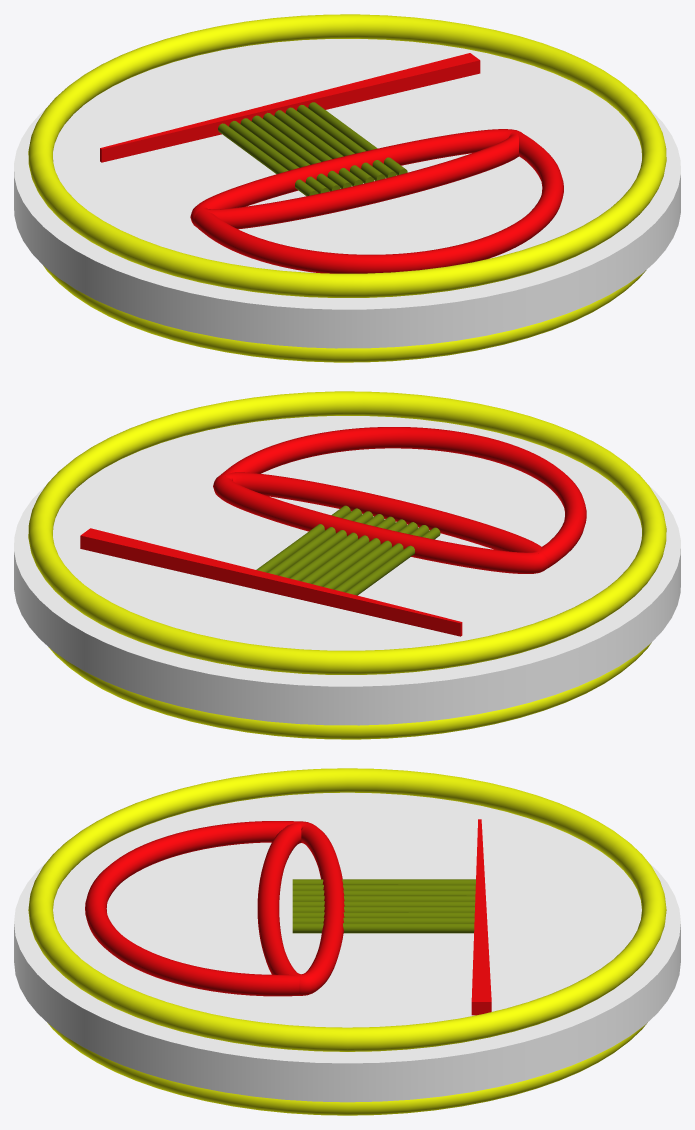
3 views of the same model, one above another, from view 1: azimuth 30°, elevation 25°; view 2: azimuth 150°, elevation 25°; view 3: azimuth 270°, elevation 25° (orthographic).
Visible parts, largest first — view 1: Circle010, Shape009, Ellipse002, Arc002, Shape013, Box016, Line008, Line010, Line014, Line011, Line012, Line013 (+3 smaller); view 2: Circle010, Shape009, Ellipse002, Arc002, Box016, Shape013, Line008, Line012, Line009, Line011, Line010, Line013 (+3 smaller); view 3: Circle010, Shape009, Arc002, Ellipse002, Shape013, Box016, Line016, Line011, Line009, Line013, Line010, Line008 (+3 smaller).
Part boxes in pixels (x1=…): Circle010: x1=14, y1=39, x2=680, y2=348; Shape009: x1=28, y1=14, x2=666, y2=297; Ellipse002: x1=190, y1=129, x2=522, y2=229; Arc002: x1=194, y1=131, x2=563, y2=273; Shape013: x1=43, y1=265, x2=646, y2=362; Box016: x1=100, y1=53, x2=480, y2=162; Line008: x1=218, y1=123, x2=317, y2=196; Line010: x1=240, y1=118, x2=340, y2=191; Line014: x1=285, y1=107, x2=385, y2=180; Line011: x1=251, y1=115, x2=351, y2=188; Line012: x1=263, y1=112, x2=362, y2=186; Line013: x1=274, y1=110, x2=373, y2=183; Circle010: x1=14, y1=416, x2=680, y2=725; Shape009: x1=28, y1=391, x2=666, y2=674; Ellipse002: x1=213, y1=472, x2=548, y2=573; Arc002: x1=221, y1=427, x2=586, y2=568; Box016: x1=80, y1=528, x2=462, y2=636; Shape013: x1=48, y1=642, x2=651, y2=739; Line008: x1=345, y1=527, x2=440, y2=595; Line012: x1=301, y1=516, x2=395, y2=583; Line009: x1=334, y1=525, x2=429, y2=592; Line011: x1=312, y1=519, x2=406, y2=586; Line010: x1=323, y1=522, x2=417, y2=589; Line013: x1=289, y1=514, x2=384, y2=580; Circle010: x1=14, y1=792, x2=680, y2=1102; Shape009: x1=28, y1=768, x2=666, y2=1051; Arc002: x1=85, y1=821, x2=303, y2=996; Ellipse002: x1=257, y1=821, x2=344, y2=995; Shape013: x1=47, y1=1022, x2=647, y2=1115; Box016: x1=471, y1=819, x2=491, y2=1015; Line016: x1=292, y1=923, x2=474, y2=933; Line011: x1=292, y1=895, x2=475, y2=901; Line009: x1=292, y1=884, x2=475, y2=890; Line013: x1=292, y1=906, x2=474, y2=912; Line010: x1=292, y1=890, x2=475, y2=895; Line008: x1=292, y1=879, x2=475, y2=884.
Size of the model in its own units: 30.63 by 4.38 by 30.63.
